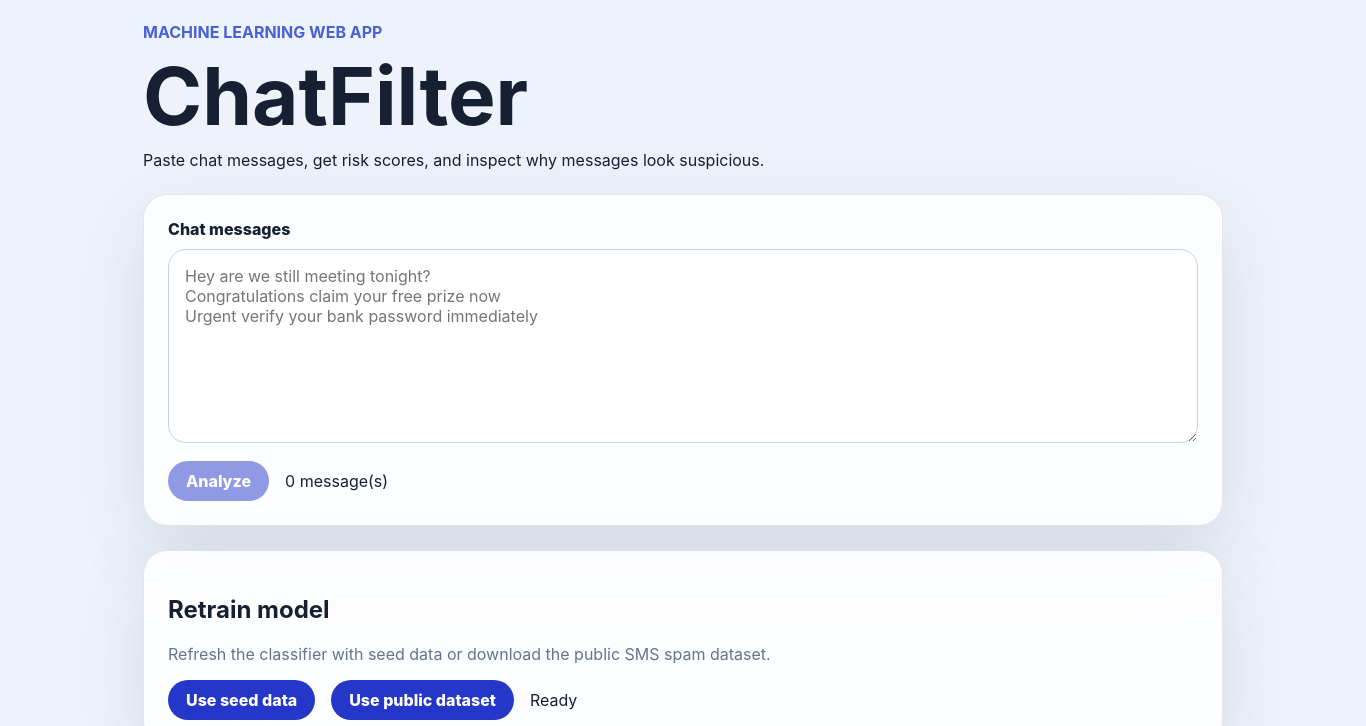
Scenario: App › renders analysis results after manual analyze
This screenshot has width=1366, height=726.
Type "claim prize now" into the text box labelled "Chat messages" at x=683, y=346, box [168,249,1198,443]
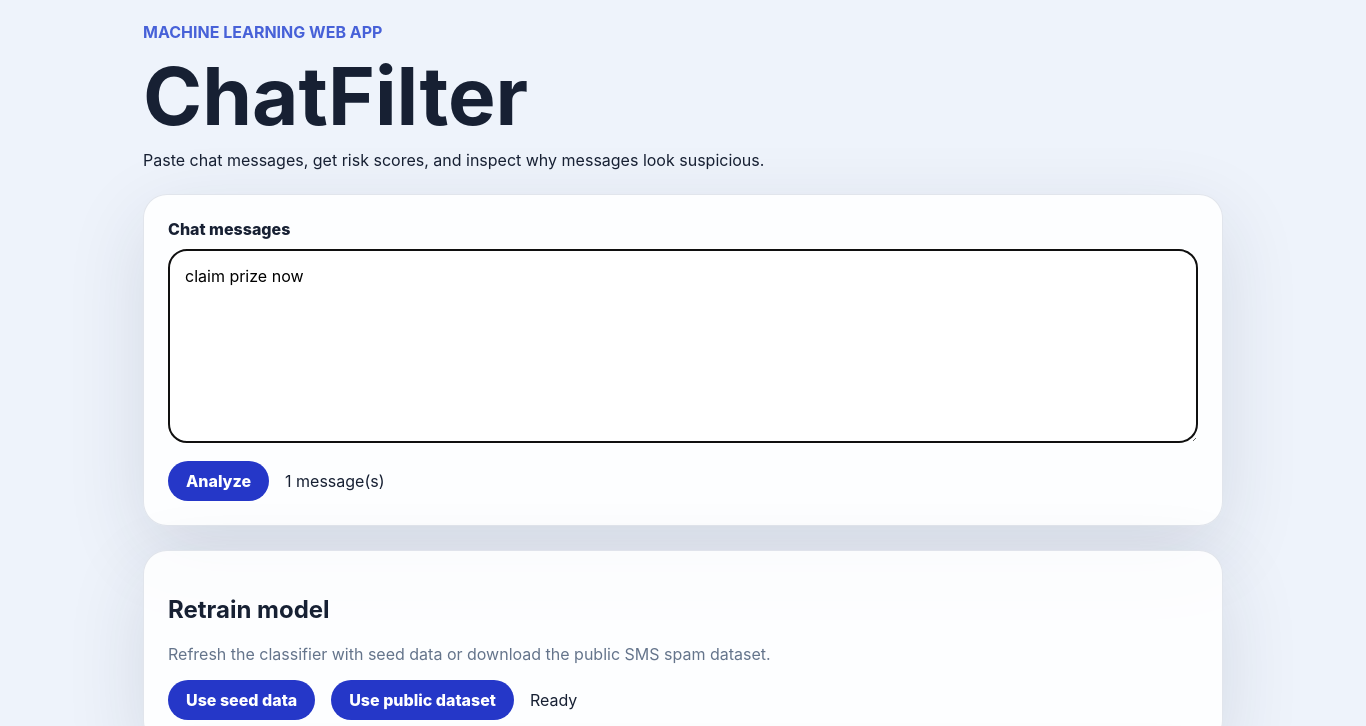
Click the button "Analyze" at x=219, y=481, box [168,461,269,501]
(page scrolled)
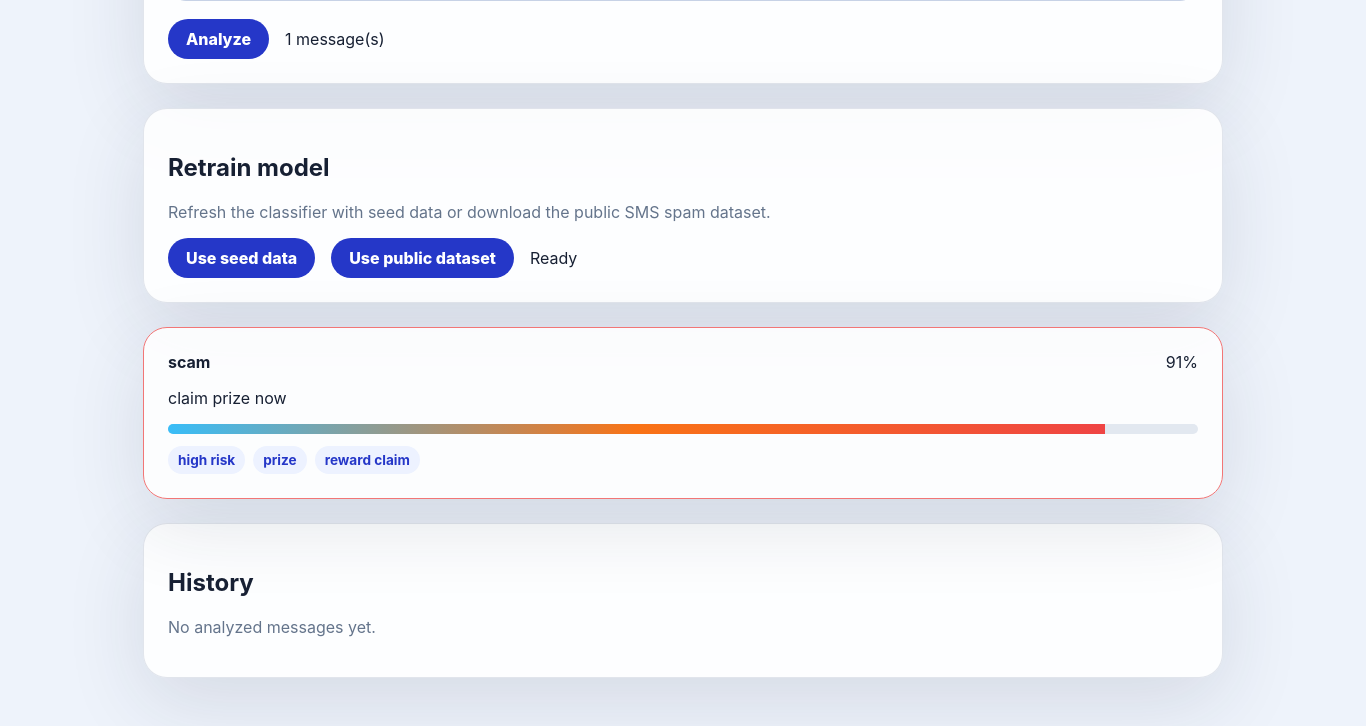
Check: the text "scam" is shown, box [168,352,210,372]
Check: the text "91%" is shown, box [1166,352,1198,372]
Check: the text "reward claim" is shown, box [315,446,420,474]
